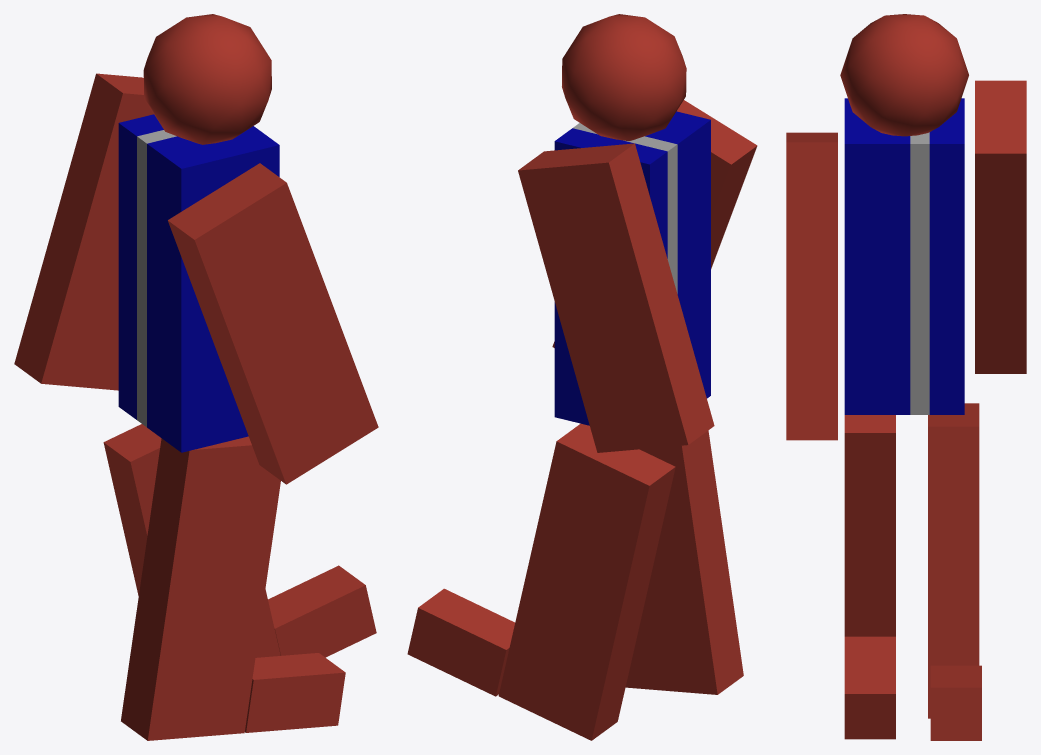
The model's file is player_000007.obj.
The picture shows the model from 3 angles, left to right: view 1: azimuth 30°, elevation 25°; view 2: azimuth 150°, elevation 25°; view 3: azimuth 270°, elevation 25°; orthographic projection. The views are drawn at different scales.
Parts seen in each view (by area): view 1: Cube.005, Cube.001, Cube, Cube.006, Icosphere, Cube.004, Cube.003, Cube.002; view 2: Cube.006, Cube.002, Cube.001, Cube, Icosphere, Cube.004, Cube.005; view 3: Cube, Cube.005, Cube.006, Cube.002, Icosphere, Cube.001, Cube.003, Cube.004.
Part boxes in pixels (x1,y1,x2,y2): Cube.005: [168, 163, 378, 484]; Cube.001: [121, 436, 280, 740]; Cube: [118, 114, 279, 452]; Cube.006: [14, 73, 153, 390]; Icosphere: [143, 14, 271, 144]; Cube.004: [268, 565, 376, 657]; Cube.003: [245, 653, 345, 732]; Cube.002: [103, 424, 280, 657]; Cube.006: [518, 143, 714, 452]; Cube.002: [498, 423, 675, 740]; Cube.001: [625, 430, 743, 694]; Cube: [554, 111, 710, 425]; Icosphere: [562, 14, 686, 140]; Cube.004: [407, 588, 514, 696]; Cube.005: [552, 100, 757, 347]; Cube: [844, 98, 964, 414]; Cube.005: [786, 132, 837, 440]; Cube.006: [975, 80, 1026, 373]; Cube.002: [928, 403, 979, 718]; Icosphere: [840, 14, 968, 136]; Cube.001: [844, 415, 895, 636]; Cube.003: [844, 636, 895, 739]; Cube.004: [930, 665, 981, 740].
Size of the model in its own units: 1.31 by 2.85 by 0.9137.
